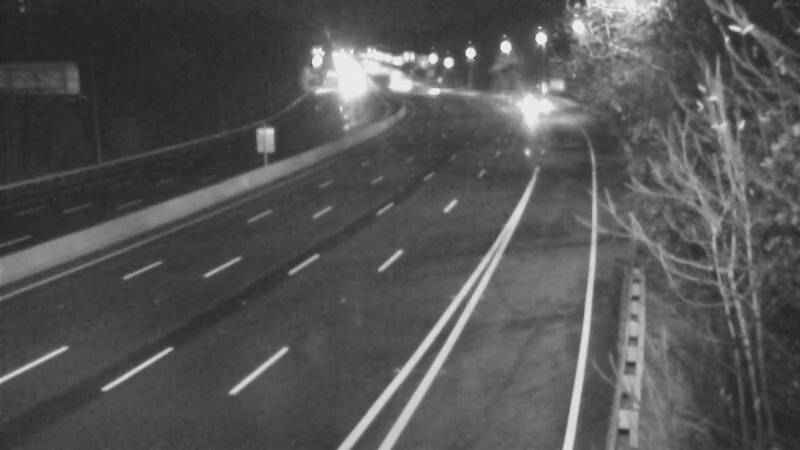vehicle: (407, 63, 457, 113), (509, 88, 559, 138)
